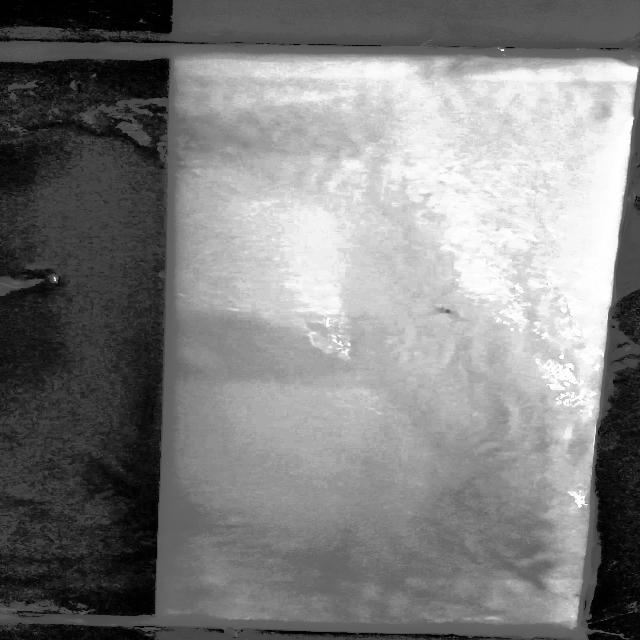shrimp: (432, 304, 468, 319)
